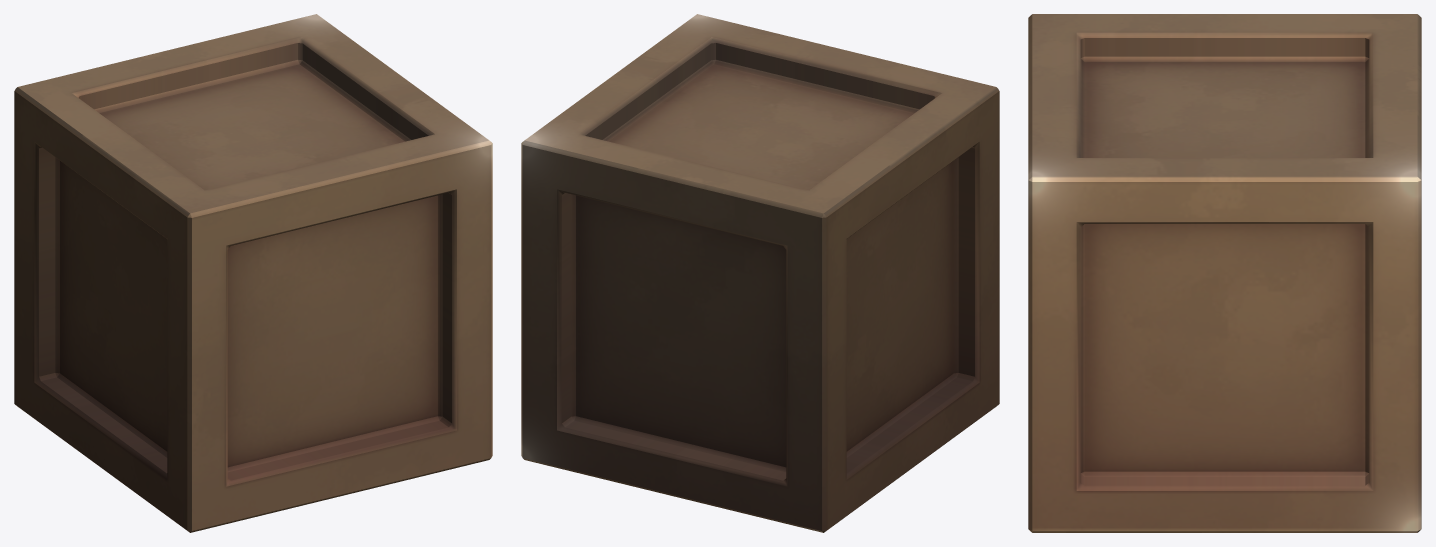
The model's file is Movable box.fbx.
3 renders of one model, left to right at view 1: azimuth 30°, elevation 25°; view 2: azimuth 150°, elevation 25°; view 3: azimuth 270°, elevation 25°, orthographic. The views are drawn at different scales.
Parts seen in each view (by area): view 1: Cube.022; view 2: Cube.022; view 3: Cube.022.
Part boxes in pixels (left/top/right/bottom): Cube.022: left=14, top=14, right=492, bottom=532; Cube.022: left=521, top=14, right=999, bottom=532; Cube.022: left=1028, top=14, right=1421, bottom=532.
Bounding box in the file's own units: 2 × 2 × 2.
